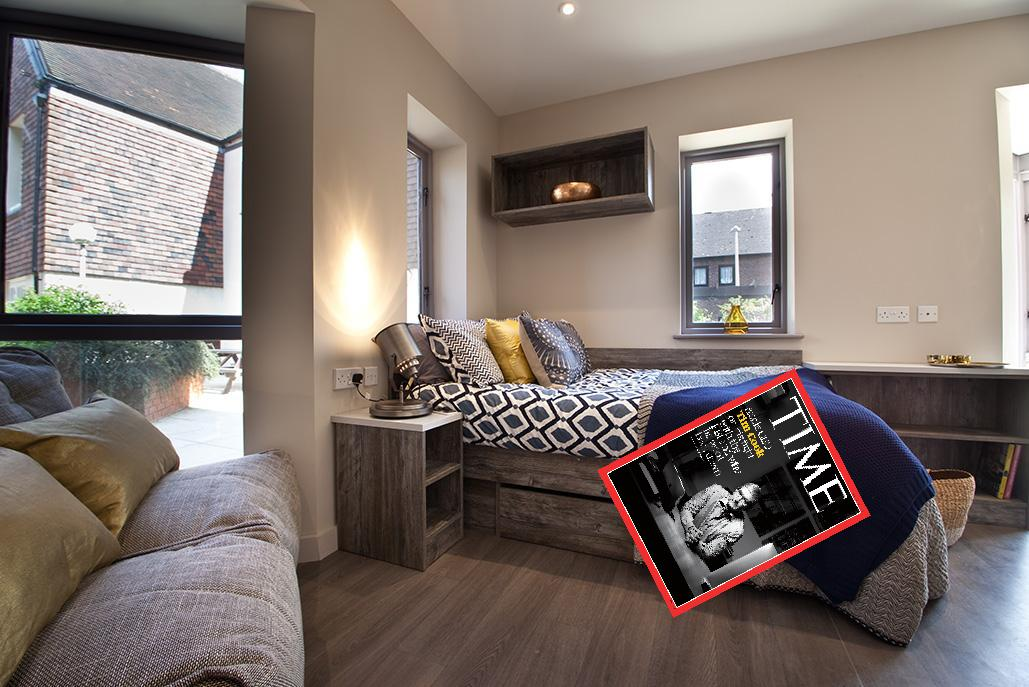times: (587, 365, 872, 618)
